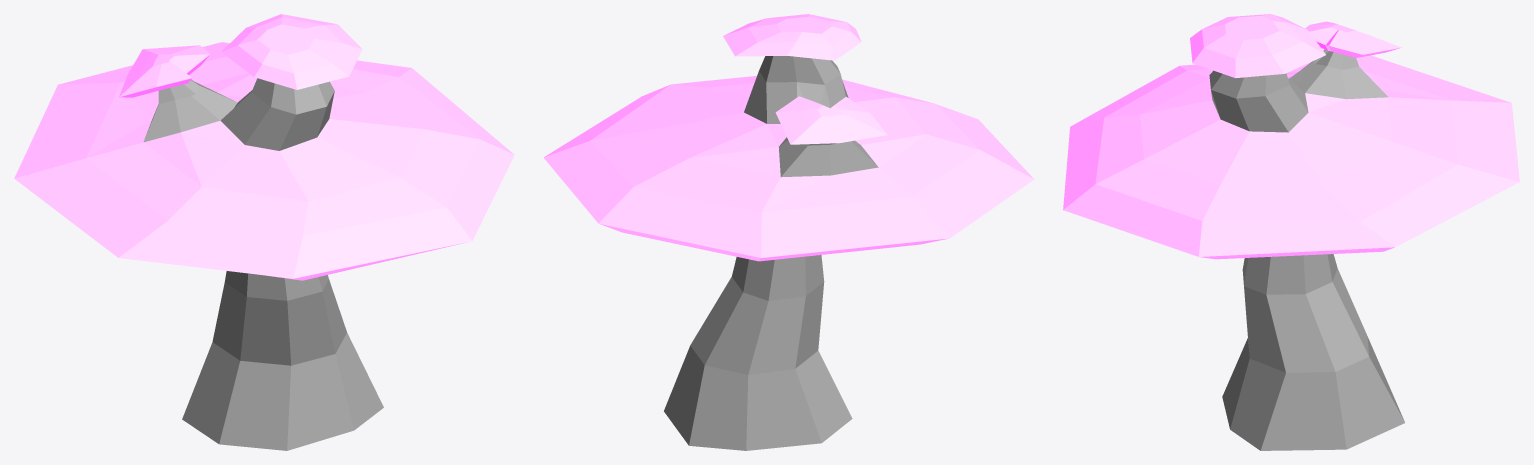
The model's file is champiC.fbx.
3 renders of one model, left to right at view 1: azimuth 30°, elevation 25°; view 2: azimuth 150°, elevation 25°; view 3: azimuth 270°, elevation 25°, orthographic. The views are drawn at different scales.
Visible parts, largest first — view 1: Circle.006; view 2: Circle.006; view 3: Circle.006.
Boxes of the visible parts, left/top/right/bottom form: Circle.006: left=14, top=14, right=514, bottom=450; Circle.006: left=543, top=14, right=1034, bottom=450; Circle.006: left=1063, top=14, right=1519, bottom=450.
Bounding box in the file's own units: 1427 × 1316 × 1437.
